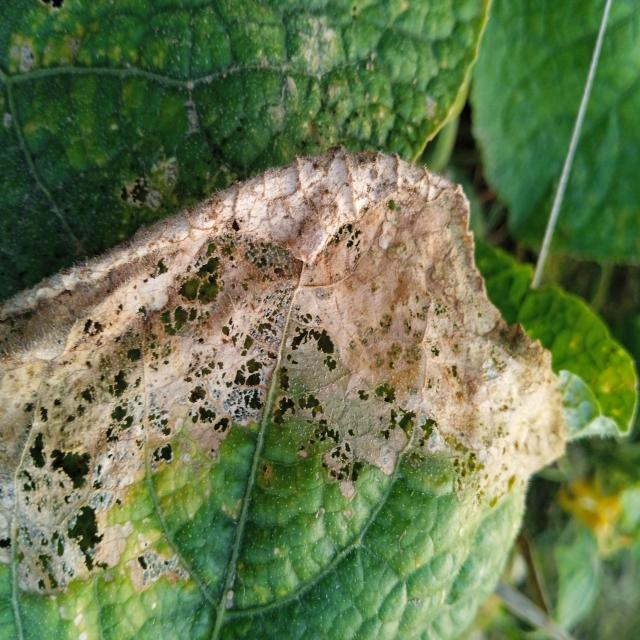cucumber_gummy: (0, 141, 571, 640)
